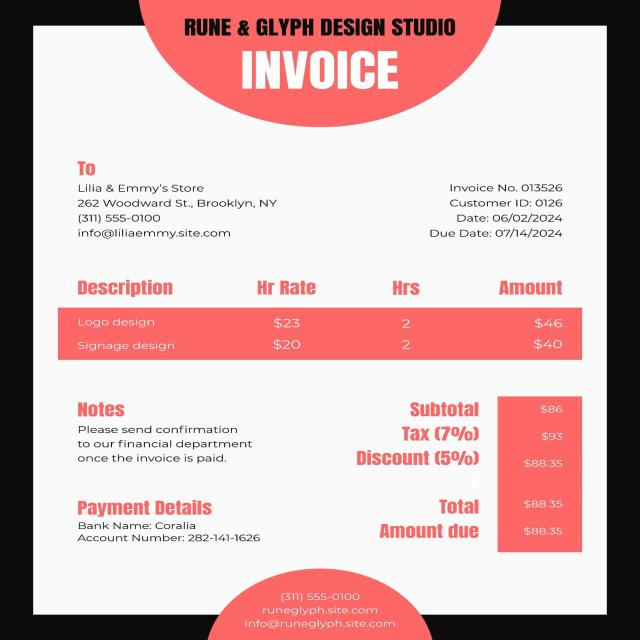paragraph: (350, 391, 590, 571), (57, 156, 302, 248), (54, 393, 274, 472), (58, 490, 287, 557), (414, 175, 579, 247), (168, 2, 476, 40), (222, 44, 418, 96), (238, 579, 404, 638)
table: (42, 262, 583, 378)
